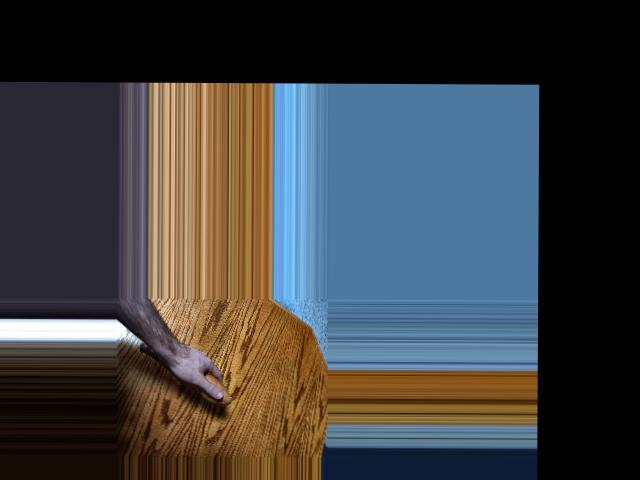sweet_potato: (136, 338, 233, 404)
